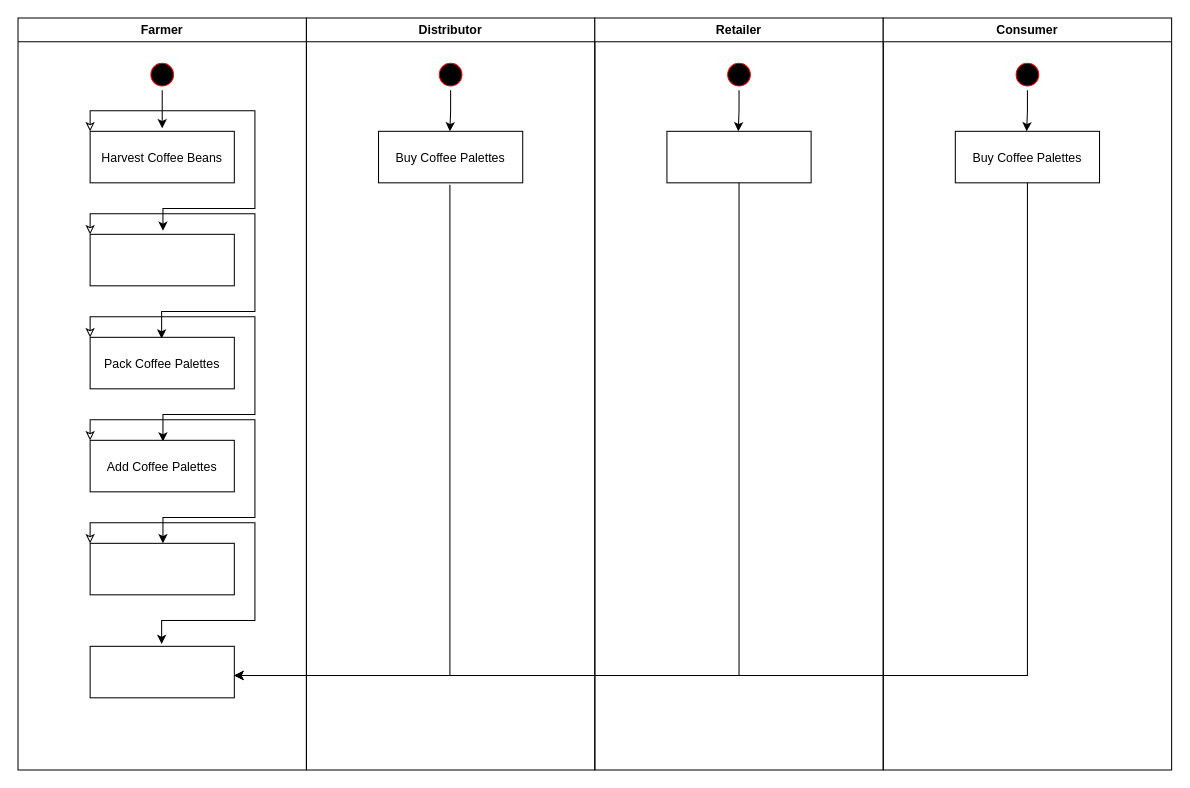
Some shapes in this 1190 by 788 pixel diagram are drawn without their labels. Each missing label, with the centre of its shape:
"Process Coffee Beans" goes at point (161, 259).
"Receive Coffee Palettes" goes at point (738, 156).
"Ship Coffee Palettes" goes at point (161, 568).
"Track Authenticity" goes at point (161, 671).
